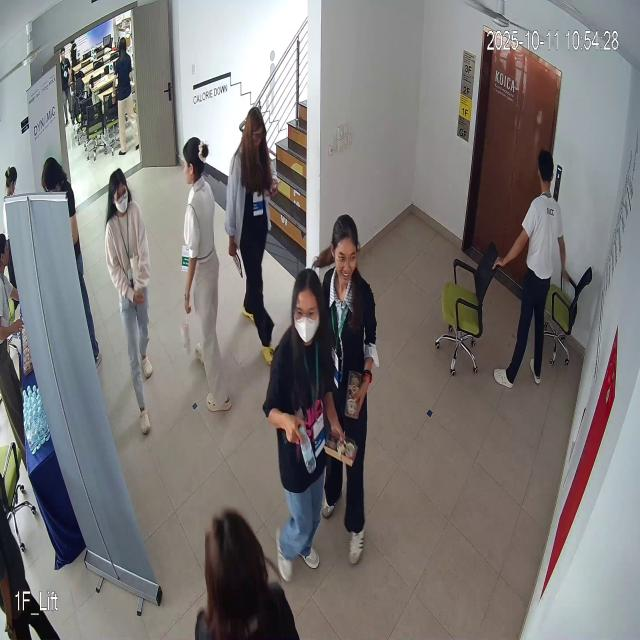face: (327, 209, 359, 288), (104, 165, 136, 222)
